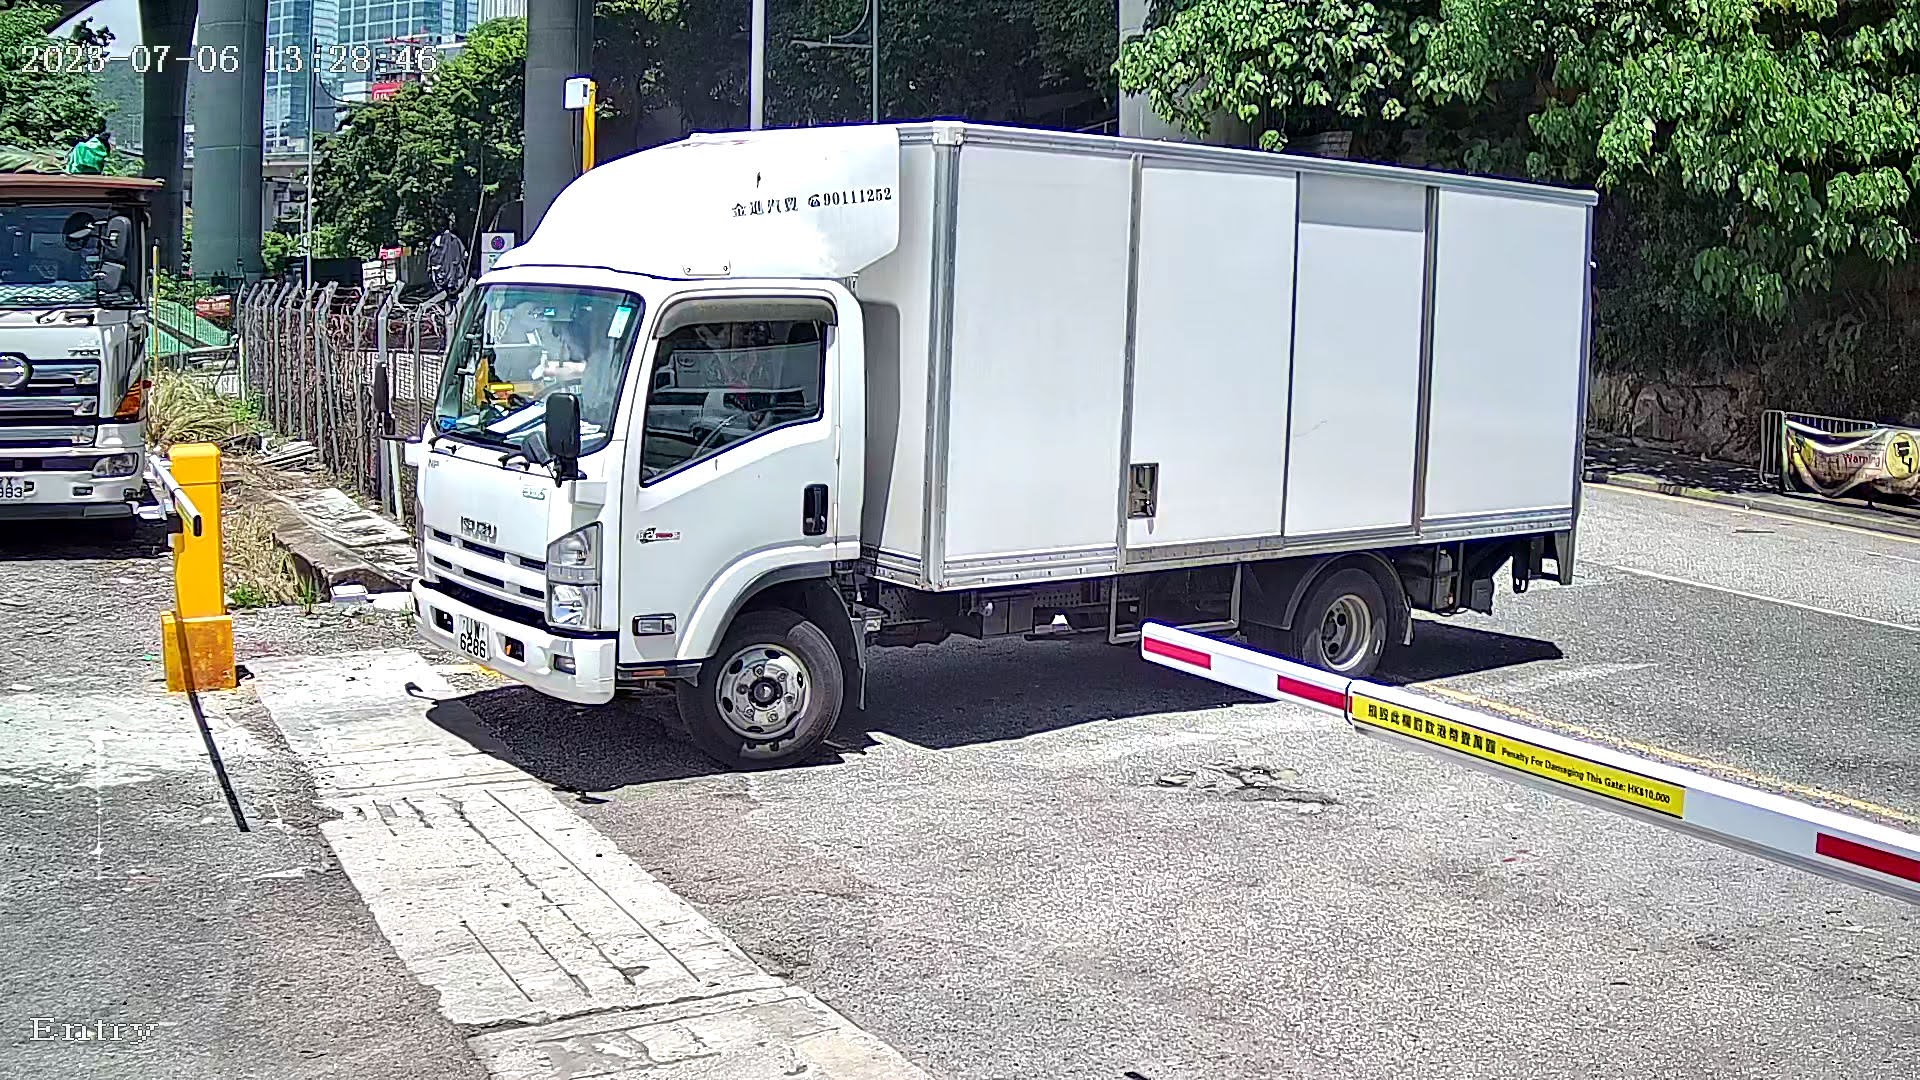truck_small: (355, 58, 1698, 802)
